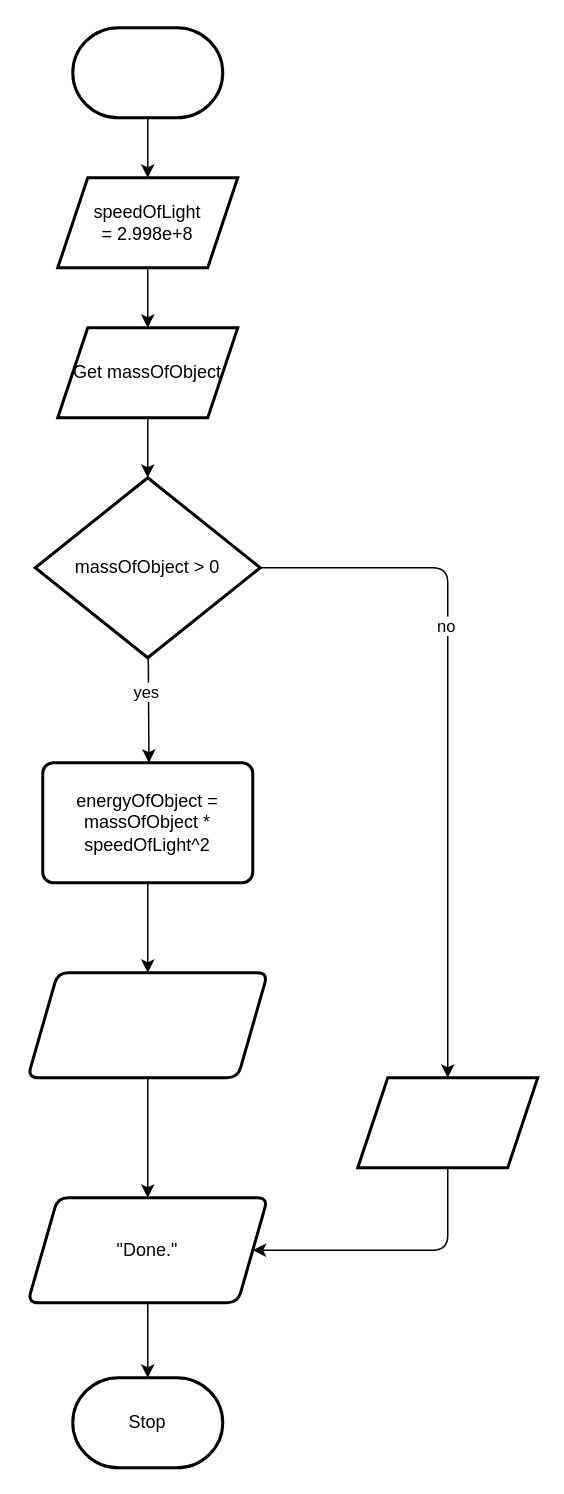
Some shapes in this 564 by 1494 pixel diagram are drawn without their labels. The box of each missing label's shape, as (x1, y1, x2, y2) in pixels:
"Invalid input.": (356, 1076, 538, 1168)
"{massOfObject} kg of mass releases {energyOfObject} J of energy.": (26, 970, 268, 1078)
Start: (70, 26, 224, 118)
